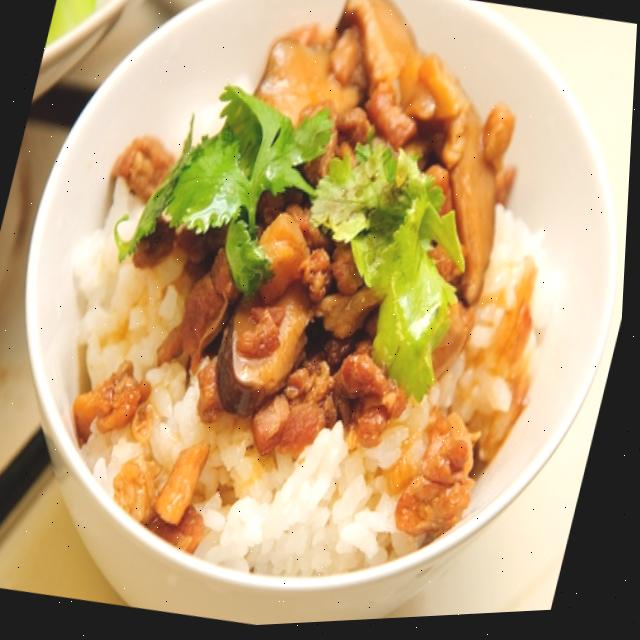猪肉菜式: (11, 0, 639, 632)
